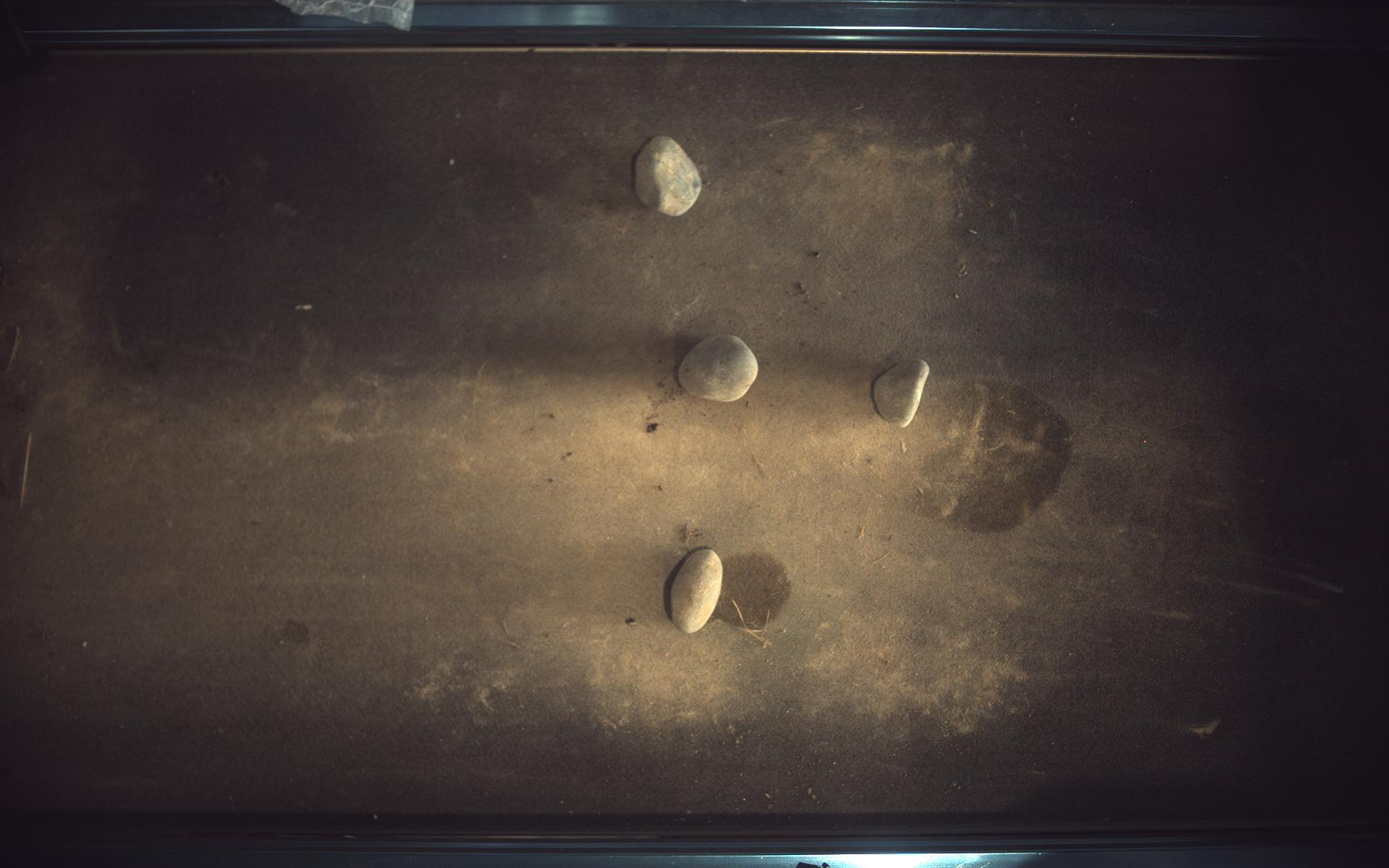stone: (679, 334, 759, 401), (636, 135, 702, 216), (671, 549, 723, 634), (875, 359, 931, 427)
